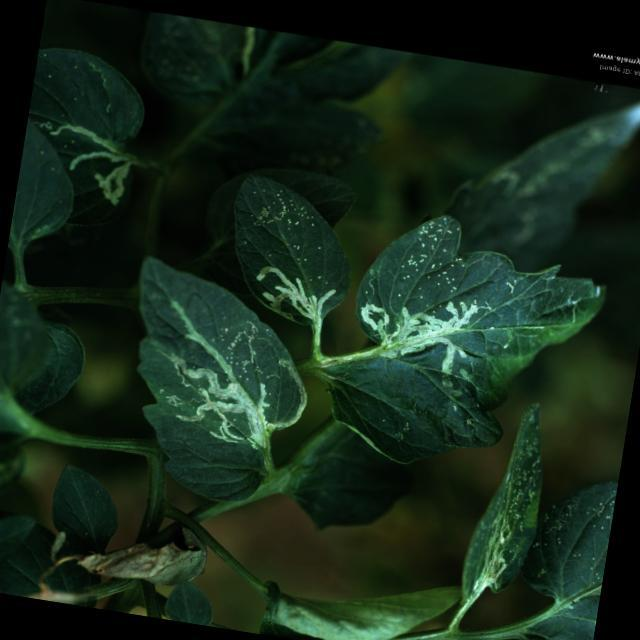Tomato target spot leaf: (316, 202, 618, 499), (99, 254, 327, 516), (7, 39, 156, 270), (216, 168, 366, 334), (452, 392, 560, 621)
